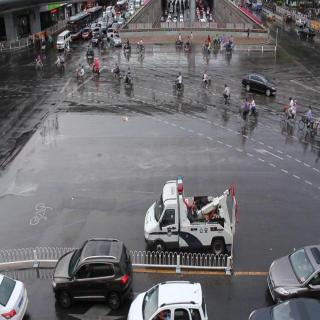Car: (141, 180, 247, 260), (49, 230, 136, 306), (119, 275, 215, 320), (263, 243, 320, 300), (245, 288, 320, 320), (0, 252, 31, 319), (239, 65, 276, 110), (67, 12, 92, 37), (55, 28, 73, 54), (300, 23, 318, 49), (94, 28, 106, 53), (109, 32, 126, 49), (266, 9, 277, 27), (282, 9, 293, 24), (83, 26, 91, 42)
